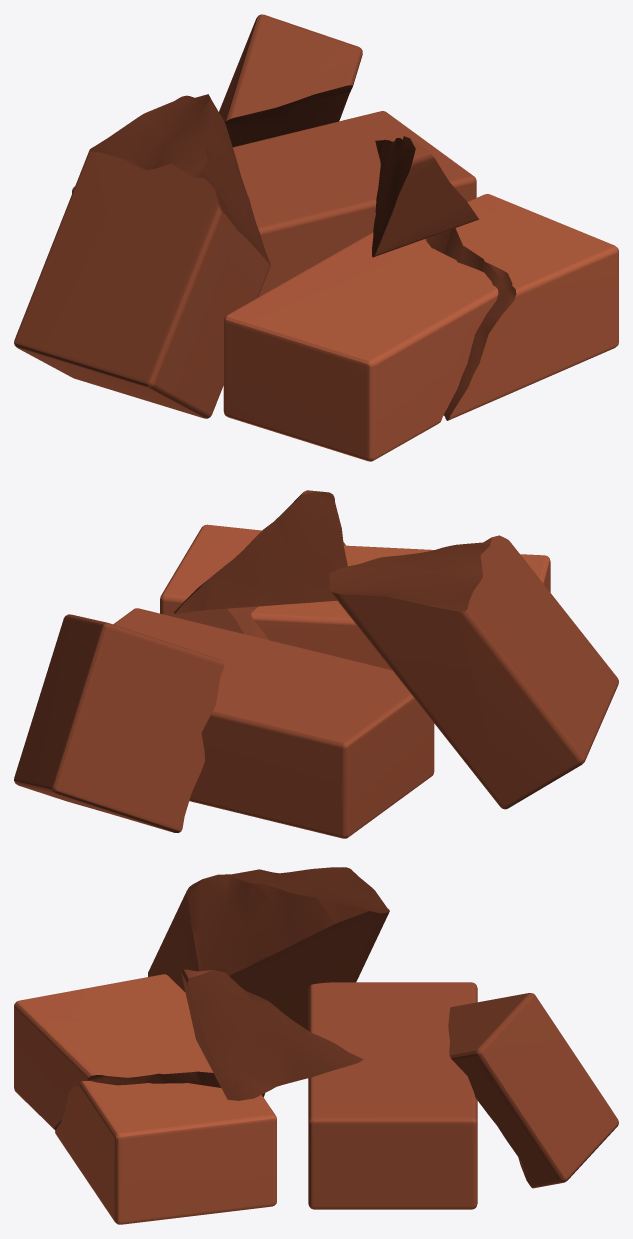
Rendered from Brick_Pile.fbx.
3 views of the same model, one above another, from view 1: azimuth 30°, elevation 25°; view 2: azimuth 150°, elevation 25°; view 3: azimuth 270°, elevation 25° (orthographic). The views are drawn at different scales.
Visible parts, largest first — view 1: shard2; view 2: shard2; view 3: shard2.
Part boxes in pixels (x1,y1,x2,y2): shard2: (14, 14, 618, 461); shard2: (14, 490, 618, 838); shard2: (14, 867, 618, 1224).
Size of the model in its own units: 15.5 by 6.75 by 17.93.
